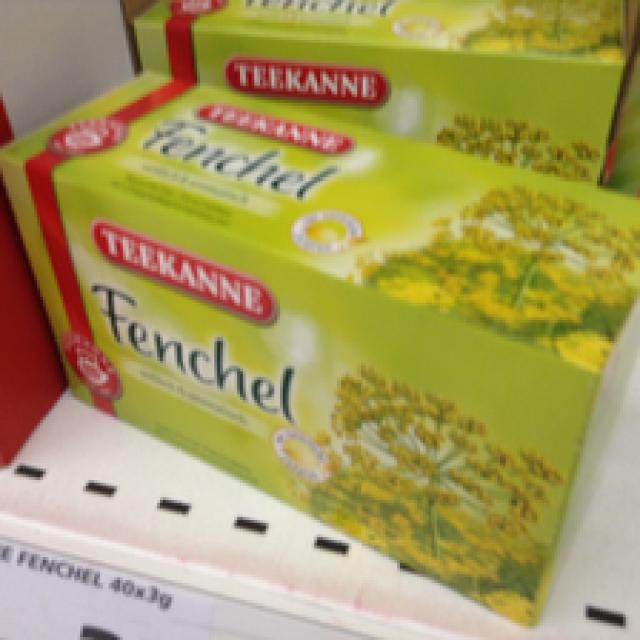groceries: (0, 69, 637, 628)
